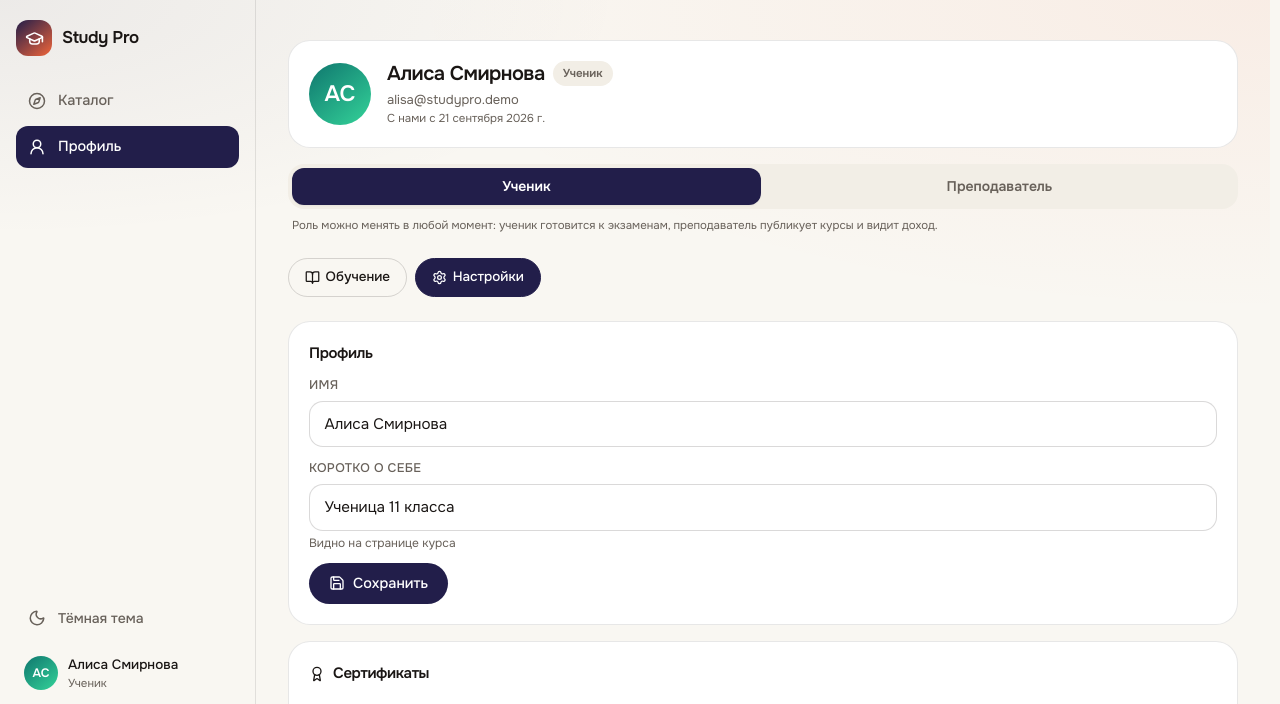
Test: profile settings › shows the stored name after saving an empty one
The image size is (1280, 704).
Step 1. Clear the field labelled "Имя" → (763, 424), box [309, 401, 1217, 447]
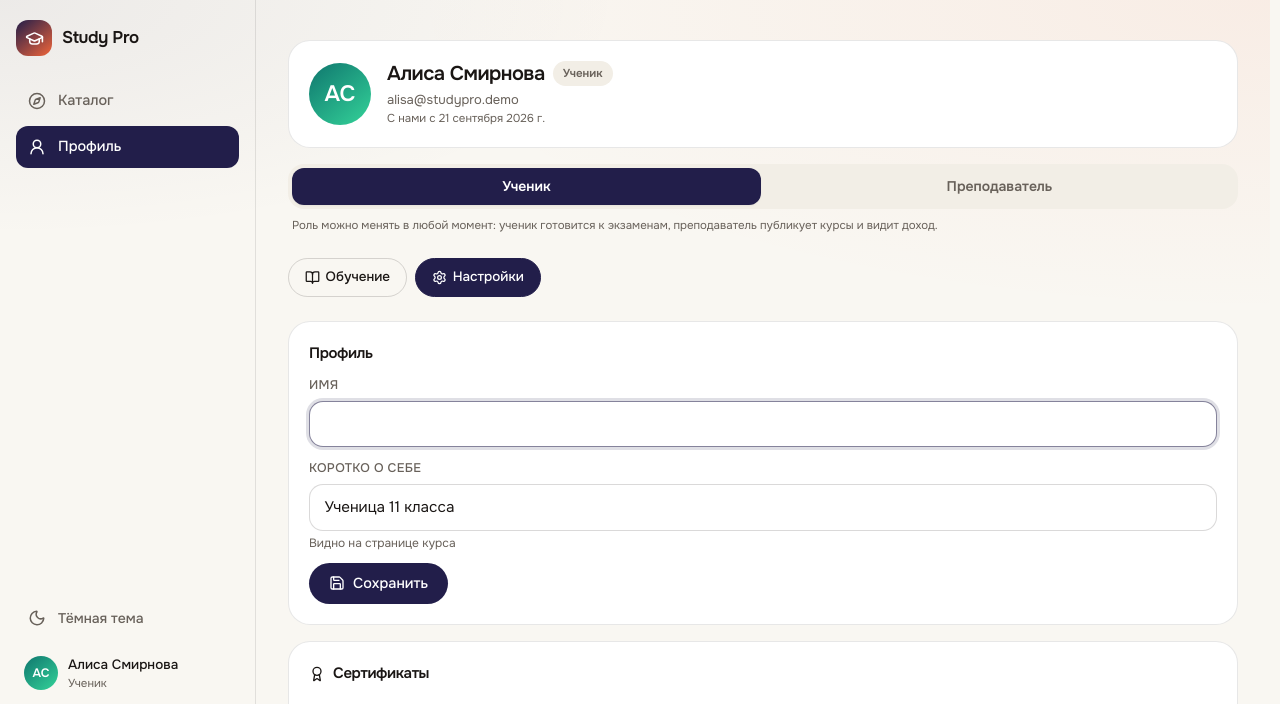
Step 2. Click the button "Сохранить" → (379, 584), box [309, 563, 448, 604]
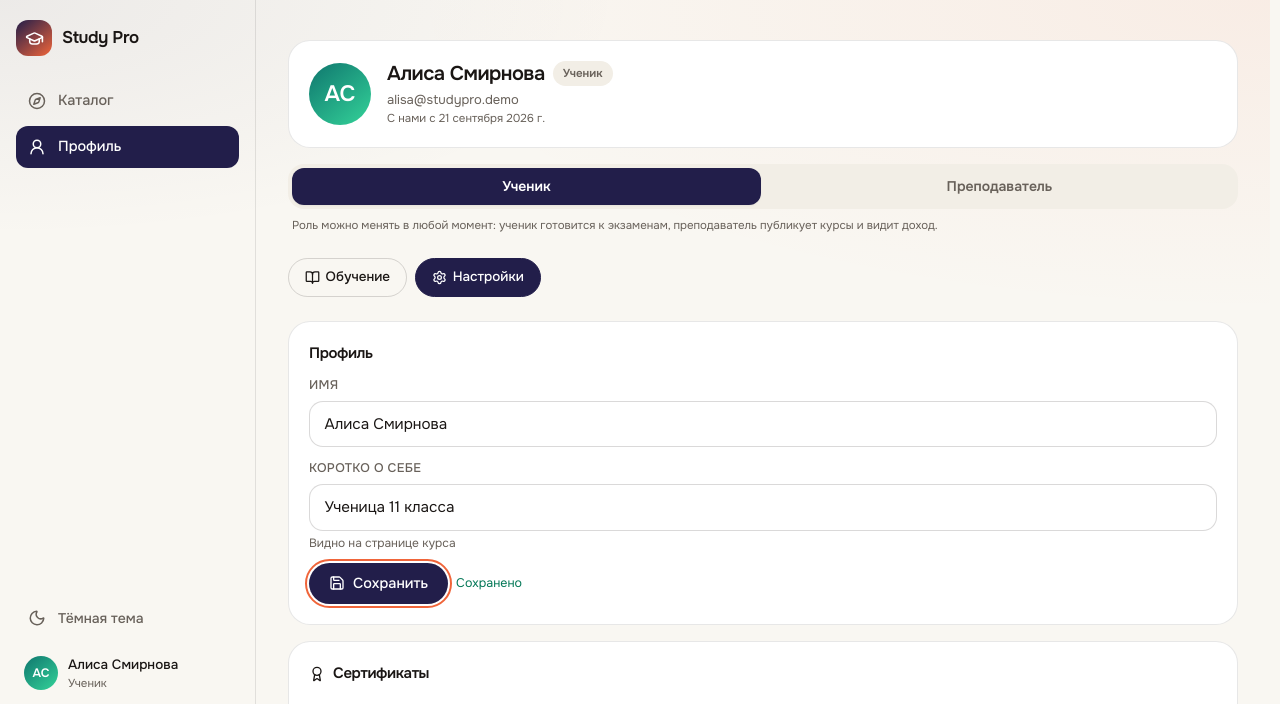
Expected: the field labelled "Имя" holds "Алиса Смирнова", [309, 401, 1217, 447]
